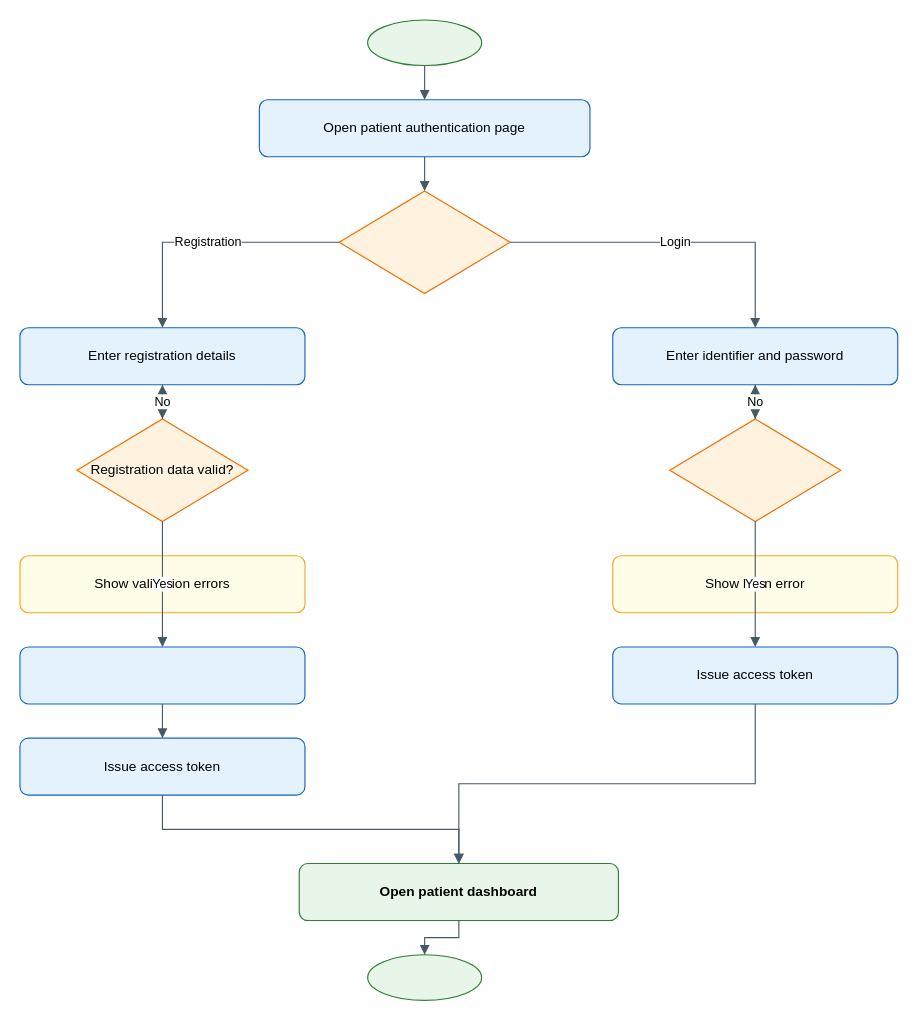
Some shapes in this 918 by 1020 pixel diagram are drawn without their labels. The centre of each missing label's shape, as x and y in pixels:
Create patient account and profile: the point at 162,675
Credentials valid?: the point at 755,470
End: the point at 424,977
New user?: the point at 424,242
Start: the point at 424,42
